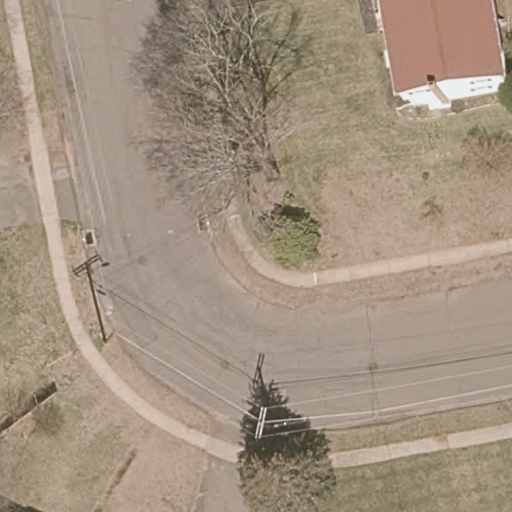DT: (91, 283, 114, 335), (253, 404, 270, 442)
